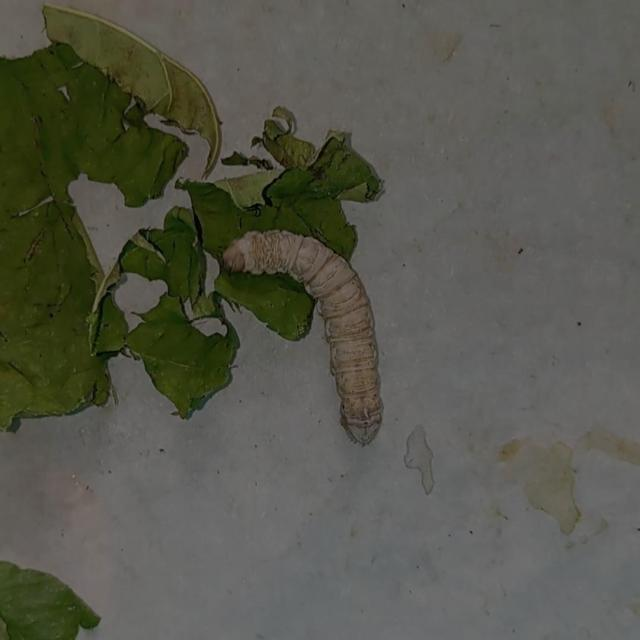Grasserie: (184, 209, 439, 476)
